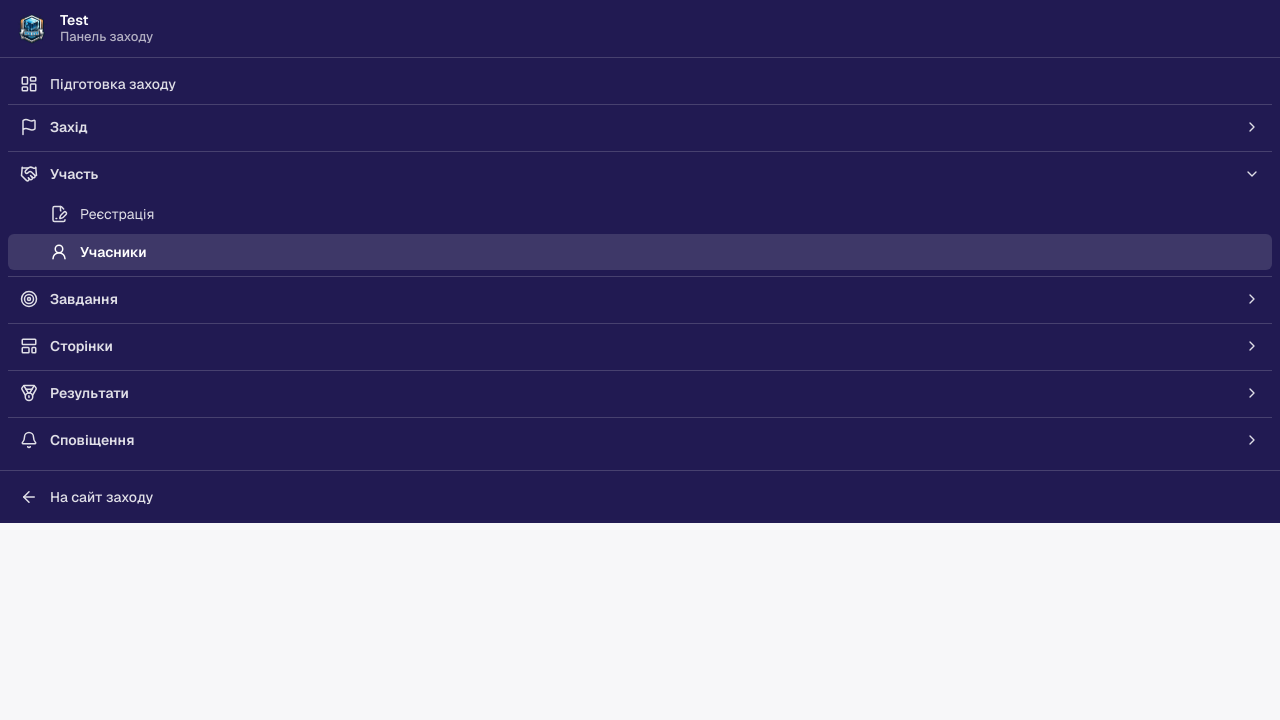
participation navigation › orders the notifications group in three blocks split by dividers
Click the button "Сповіщення": (92, 440) [8,422,1272,458]
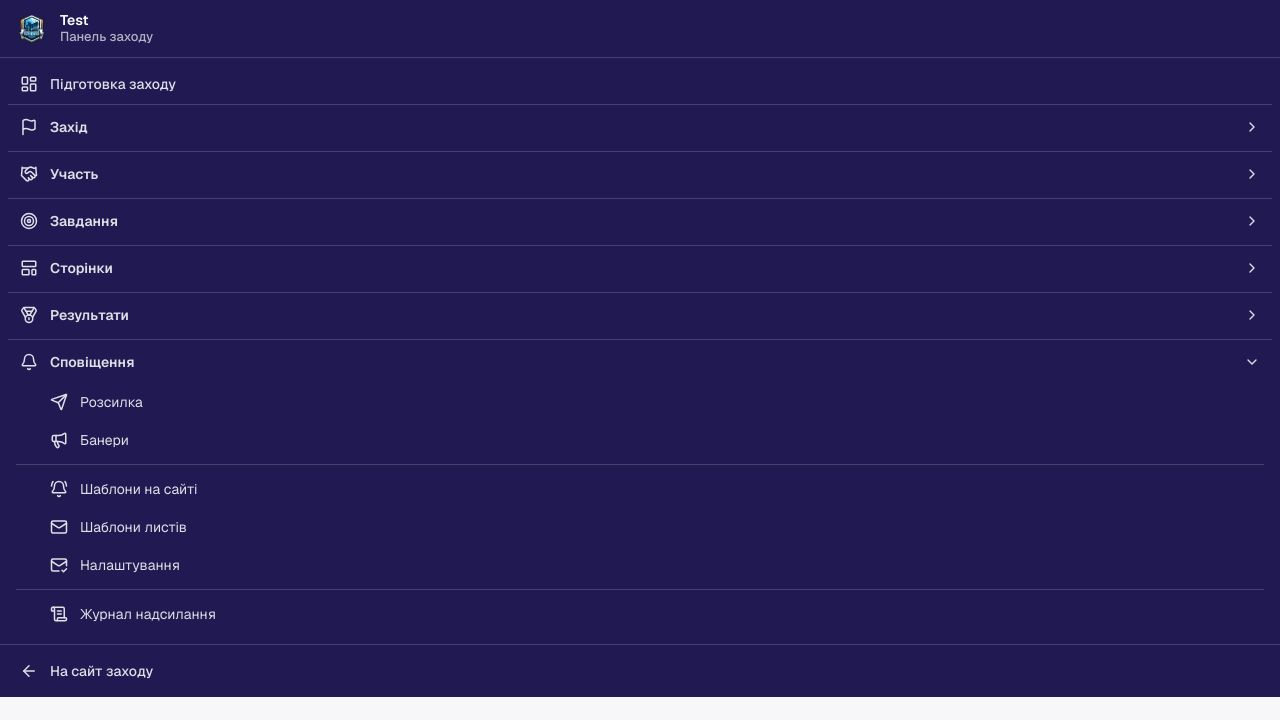
expect the link to "/manage/mail" is shown: met, box [50,556,180,574]
